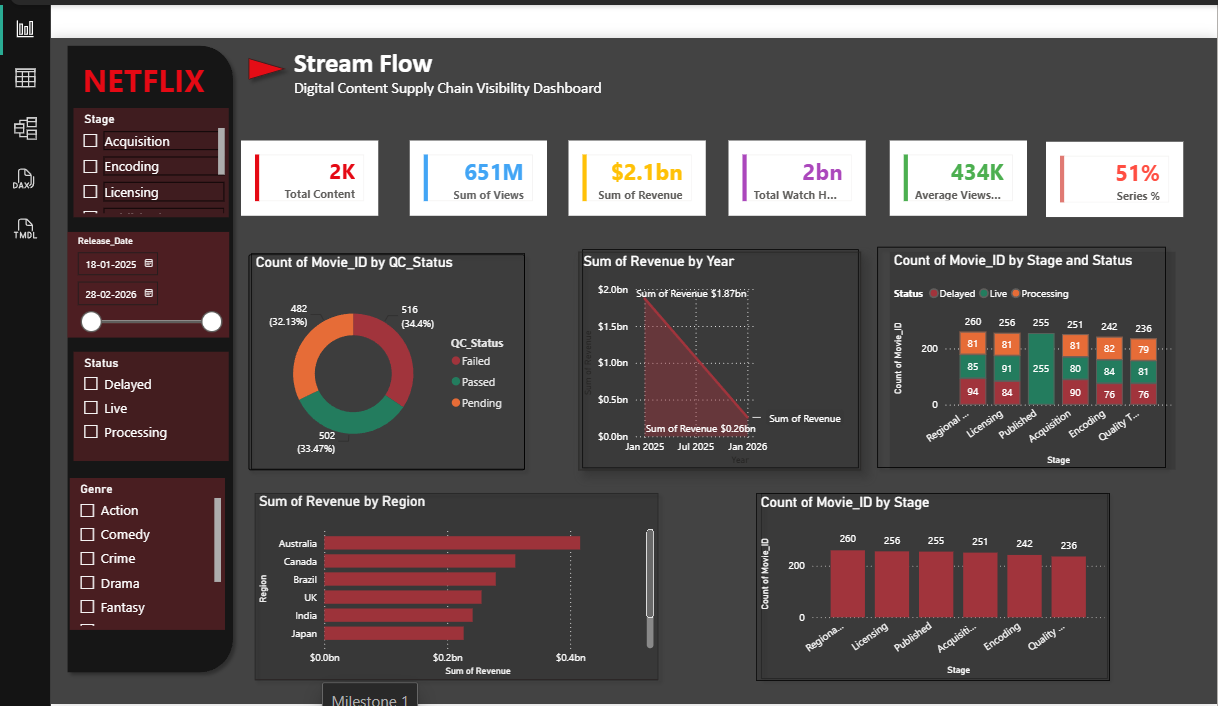

The page's visual inventory and layout, read from the dashboard file:
{"tool":"powerbi","page":{"name":"Milestone 1","canvas":[1400,800],"ordinal":1},"visuals":[{"type":"shape","box":[10.7,0,217.2,770.8],"z":0},{"type":"textbox","box":[33.5,20.1,163.5,64.3],"z":1000},{"type":"cardVisual","fields":{"Data":["Sum(Netflix_Content_Supply_Chain.Views)"]},"box":[430.3,123.3,165,90],"z":2000},{"type":"cardVisual","fields":{"Data":["Sum(Netflix_Content_Supply_Chain.Revenue)"]},"box":[622,123.3,165,90],"z":3000},{"type":"cardVisual","fields":{"Data":["Netflix_Content_Supply_Chain.Total Watch Hours"]},"box":[813.7,123.3,165,90],"z":4000},{"type":"cardVisual","fields":{"Data":["Netflix_Content_Supply_Chain.Published Content"]},"box":[1006.7,123.3,165,90],"z":5000},{"type":"cardVisual","fields":{"Data":["Netflix_Content_Supply_Chain.Delayed Content"]},"box":[1194.4,124.7,165,90],"z":6000},{"type":"cardVisual","fields":{"Data":["Netflix_Content_Supply_Chain.Total Content"]},"box":[227.9,123.3,165,90],"z":7000},{"type":"shape","box":[227.9,14.7,63,44.2],"z":8000},{"type":"textbox","box":[286.9,6.7,191.7,61.7],"z":9000},{"type":"textbox","box":[286.9,44.2,394.1,40.2],"z":10000},{"type":"shape","box":[227.9,250.7,349.9,277.5],"z":11000},{"type":"donutChart","fields":{"Category":["Netflix_Content_Supply_Chain.QC_Status"],"Y":["CountNonNull(Netflix_Content_Supply_Chain.Movie_ID)"]},"box":[239.9,258.7,328.4,260.1],"z":12000},{"type":"shape","box":[628.7,245.3,350,281],"z":13000},{"type":"lineChart","fields":{"Category":["Netflix_Content_Supply_Chain.Release_Date.Variation.Date Hierarchy.Year","Netflix_Content_Supply_Chain.Release_Date.Variation.Date Hierarchy.Quarter","Netflix_Content_Supply_Chain.Release_Date.Variation.Date Hierarchy.Month","Netflix_Content_Supply_Chain.Release_Date.Variation.Date Hierarchy.Day"],"Y":["Sum(Netflix_Content_Supply_Chain.Revenue)"]},"box":[633.4,256.6,339.1,262.7],"z":14000},{"type":"clusteredBarChart","fields":{"Category":["Netflix_Content_Supply_Chain.Region"],"Y":["Sum(Netflix_Content_Supply_Chain.Revenue)"]},"box":[244,545.6,483.9,225.2],"z":15000},{"type":"shape","box":[843.2,537.5,434.3,241.3],"z":16000},{"type":"columnChart","fields":{"Category":["Netflix_Content_Supply_Chain.Stage"],"Y":["CountNonNull(Netflix_Content_Supply_Chain.Movie_ID)"]},"box":[847.2,545.6,424.9,225.2],"z":17000},{"type":"shape","box":[235.9,537.5,502.7,242.6],"z":18000},{"type":"columnChart","fields":{"Category":["Netflix_Content_Supply_Chain.Stage"],"Series":["Netflix_Content_Supply_Chain.Status"],"Y":["CountNonNull(Netflix_Content_Supply_Chain.Movie_ID)"]},"box":[1006.7,257.4,343.2,261.4],"z":19000},{"type":"shape","box":[982.7,241.6,364.7,283.7],"z":20000},{"type":"slicer","fields":{"Values":["Netflix_Content_Supply_Chain.Stage"]},"box":[26.8,84.5,186.3,131.4],"z":21000},{"type":"slicer","fields":{"Values":["Netflix_Content_Supply_Chain.Release_Date"]},"box":[18.8,231.9,194.4,127.3],"z":22000},{"type":"slicer","fields":{"Values":["Netflix_Content_Supply_Chain.Status"]},"box":[26.8,376.7,186.3,131.4],"z":23000},{"type":"slicer","fields":{"Values":["Netflix_Content_Supply_Chain.Genre"]},"box":[22.8,528.2,186.3,182.3],"z":24000}]}

Visuals, with their boxes on the page's 1400x800 design canvas (x1, y1, x2, y2). These are canvas units, not pixel positions in the 1218x706 screenshot, which may show the page scaled, cropped or inside an application window:
shape: region(11, 0, 228, 771)
textbox: region(34, 20, 197, 84)
cardVisual - Sum(Netflix_Content_Supply_Chain.Views): region(430, 123, 595, 213)
cardVisual - Sum(Netflix_Content_Supply_Chain.Revenue): region(622, 123, 787, 213)
cardVisual - Netflix_Content_Supply_Chain.Total Watch Hours: region(814, 123, 979, 213)
cardVisual - Netflix_Content_Supply_Chain.Published Content: region(1007, 123, 1172, 213)
cardVisual - Netflix_Content_Supply_Chain.Delayed Content: region(1194, 125, 1359, 215)
cardVisual - Netflix_Content_Supply_Chain.Total Content: region(228, 123, 393, 213)
shape: region(228, 15, 291, 59)
textbox: region(287, 7, 479, 68)
textbox: region(287, 44, 681, 84)
shape: region(228, 251, 578, 528)
donutChart - Netflix_Content_Supply_Chain.QC_Status x CountNonNull(Netflix_Content_Supply_Chain.Movie_ID): region(240, 259, 568, 519)
shape: region(629, 245, 979, 526)
lineChart - Netflix_Content_Supply_Chain.Release_Date.Variation.Date Hierarchy.Year x Netflix_Content_Supply_Chain.Release_Date.Variation.Date Hierarchy.Quarter: region(633, 257, 972, 519)
clusteredBarChart - Netflix_Content_Supply_Chain.Region x Sum(Netflix_Content_Supply_Chain.Revenue): region(244, 546, 728, 771)
shape: region(843, 538, 1278, 779)
columnChart - Netflix_Content_Supply_Chain.Stage x CountNonNull(Netflix_Content_Supply_Chain.Movie_ID): region(847, 546, 1272, 771)
shape: region(236, 538, 739, 780)
columnChart - Netflix_Content_Supply_Chain.Stage x Netflix_Content_Supply_Chain.Status: region(1007, 257, 1350, 519)
shape: region(983, 242, 1347, 525)
slicer - Netflix_Content_Supply_Chain.Stage: region(27, 84, 213, 216)
slicer - Netflix_Content_Supply_Chain.Release_Date: region(19, 232, 213, 359)
slicer - Netflix_Content_Supply_Chain.Status: region(27, 377, 213, 508)
slicer - Netflix_Content_Supply_Chain.Genre: region(23, 528, 209, 710)
